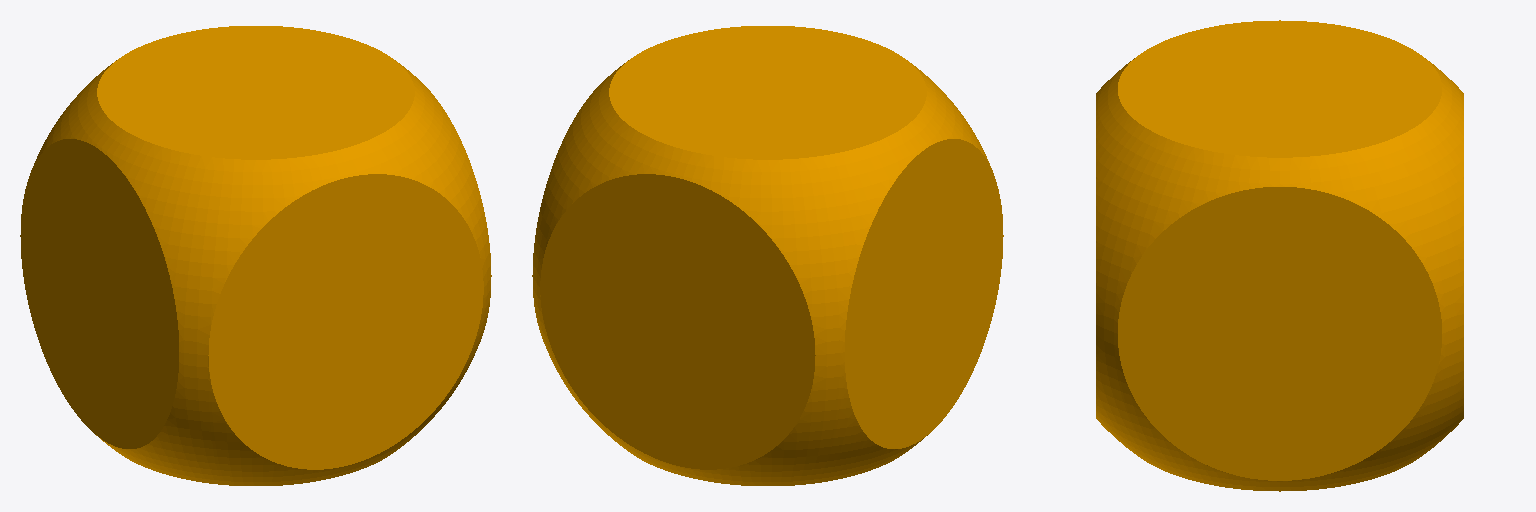
URDF robot description (sphere_s):
<?xml version="1.0" ?>
<robot name="sphere_s">

<link name="sphere_s_base_link">
  <inertial>
    <origin xyz="-1.3564652801627322e-14 -5.7138385853527054e-18 1.1427677170705411e-17" rpy="0 0 0"/>
    <mass value="0.19523689346126255"/>
    <inertia ixx="2.7e-05" iyy="2.7e-05" izz="2.7e-05" ixy="-0.0" iyz="-0.0" ixz="-0.0"/>
  </inertial>
  <visual>
    <origin xyz="0 0 0" rpy="0 0 0"/>
    <geometry>
      <mesh filename="meshes/sphere_s_base_link.stl" scale="0.001 0.001 0.001"/>
    </geometry>
    <material name="silver"/>
  </visual>
  <collision>
    <origin xyz="0 0 0" rpy="0 0 0"/>
    <geometry>
      <mesh filename="meshes/sphere_s_base_link.stl" scale="0.001 0.001 0.001"/>
    </geometry>
  </collision>
</link>

<link name="sphere_s_AP2_1">
  <inertial>
    <origin xyz="-3.9898639947466526e-19 0.0 4.440892098500626e-18" rpy="0 0 0"/>
    <mass value="3.288200310757317e-05"/>
    <inertia ixx="0.0" iyy="0.0" izz="0.0" ixy="-0.0" iyz="0.0" ixz="0.0"/>
  </inertial>
  
  
</link>

<link name="sphere_s_AP4_1">
  <inertial>
    <origin xyz="0.0 8.881784197001253e-18 -2.532696274926138e-18" rpy="0 0 0"/>
    <mass value="3.288200310757317e-05"/>
    <inertia ixx="0.0" iyy="0.0" izz="0.0" ixy="-0.0" iyz="0.0" ixz="0.0"/>
  </inertial>
  
  
</link>

<link name="sphere_s_AP3_1">
  <inertial>
    <origin xyz="3.816391647148971e-19 0.0 2.220446049250313e-18" rpy="0 0 0"/>
    <mass value="3.288200310757317e-05"/>
    <inertia ixx="0.0" iyy="0.0" izz="0.0" ixy="0.0" iyz="-0.0" ixz="0.0"/>
  </inertial>
  
  
</link>

<link name="sphere_s_AP5_1">
  <inertial>
    <origin xyz="-1.3866695599588098e-34 0.0 3.469446951953614e-18" rpy="0 0 0"/>
    <mass value="3.288200310757317e-05"/>
    <inertia ixx="0.0" iyy="0.0" izz="0.0" ixy="-0.0" iyz="0.0" ixz="0.0"/>
  </inertial>
  
  
</link>

<link name="sphere_s_AP1_1">
  <inertial>
    <origin xyz="-1.0408340855860807e-19 4.440892098500626e-18 0.0" rpy="0 0 0"/>
    <mass value="3.288200310757317e-05"/>
    <inertia ixx="0.0" iyy="0.0" izz="0.0" ixy="0.0" iyz="-0.0" ixz="0.0"/>
  </inertial>
  
  
</link>

<link name="sphere_s_AP6_1">
  <inertial>
    <origin xyz="0.0 2.220446049250313e-18 1.0928757898653883e-18" rpy="0 0 0"/>
    <mass value="3.288200310757317e-05"/>
    <inertia ixx="0.0" iyy="0.0" izz="0.0" ixy="0.0" iyz="-0.0" ixz="-0.0"/>
  </inertial>
  
  
</link>

<joint name="Rigid 1" type="fixed">
  <origin xyz="0.0 -0.015 0.0" rpy="0 0 0"/>
  <parent link="sphere_s_base_link"/>
  <child link="sphere_s_AP2_1"/>
</joint>

<joint name="Rigid 2" type="fixed">
  <origin xyz="0.015 0.0 0.0" rpy="0 0 0"/>
  <parent link="sphere_s_base_link"/>
  <child link="sphere_s_AP4_1"/>
</joint>

<joint name="Rigid 3" type="fixed">
  <origin xyz="0.0 0.015 0.0" rpy="0 0 0"/>
  <parent link="sphere_s_base_link"/>
  <child link="sphere_s_AP3_1"/>
</joint>

<joint name="Rigid 4" type="fixed">
  <origin xyz="0.0 0.0 0.015" rpy="0 0 0"/>
  <parent link="sphere_s_base_link"/>
  <child link="sphere_s_AP5_1"/>
</joint>

<joint name="Rigid 5" type="fixed">
  <origin xyz="0.0 0.0 -0.015" rpy="0 0 0"/>
  <parent link="sphere_s_base_link"/>
  <child link="sphere_s_AP1_1"/>
</joint>

<joint name="Rigid 6" type="fixed">
  <origin xyz="-0.015 0.0 0.0" rpy="0 0 0"/>
  <parent link="sphere_s_base_link"/>
  <child link="sphere_s_AP6_1"/>
</joint>

</robot>

--- Facts derived from the render (not from the file) ---
3 views of the same robot in one strip: view 1: azimuth 30°, elevation 25°; view 2: azimuth 150°, elevation 25°; view 3: azimuth 270°, elevation 25° (orthographic).
Robot: sphere_s — 7 links, 6 joints (6 fixed); root link sphere_s_base_link; default pose: all joints at 0.
Links seen in each view (by area): view 1: sphere_s_base_link; view 2: sphere_s_base_link; view 3: sphere_s_base_link.
Boxes of the visible links, left/top/right/bottom form: sphere_s_base_link: left=20, top=26, right=491, bottom=485; sphere_s_base_link: left=532, top=26, right=1003, bottom=485; sphere_s_base_link: left=1096, top=20, right=1463, bottom=491.
Bounding box of the posed robot: 0.03 × 0.03 × 0.03 m (x, y, z).
1 mesh visuals loaded from 1 distinct referenced files (1 binary STL).